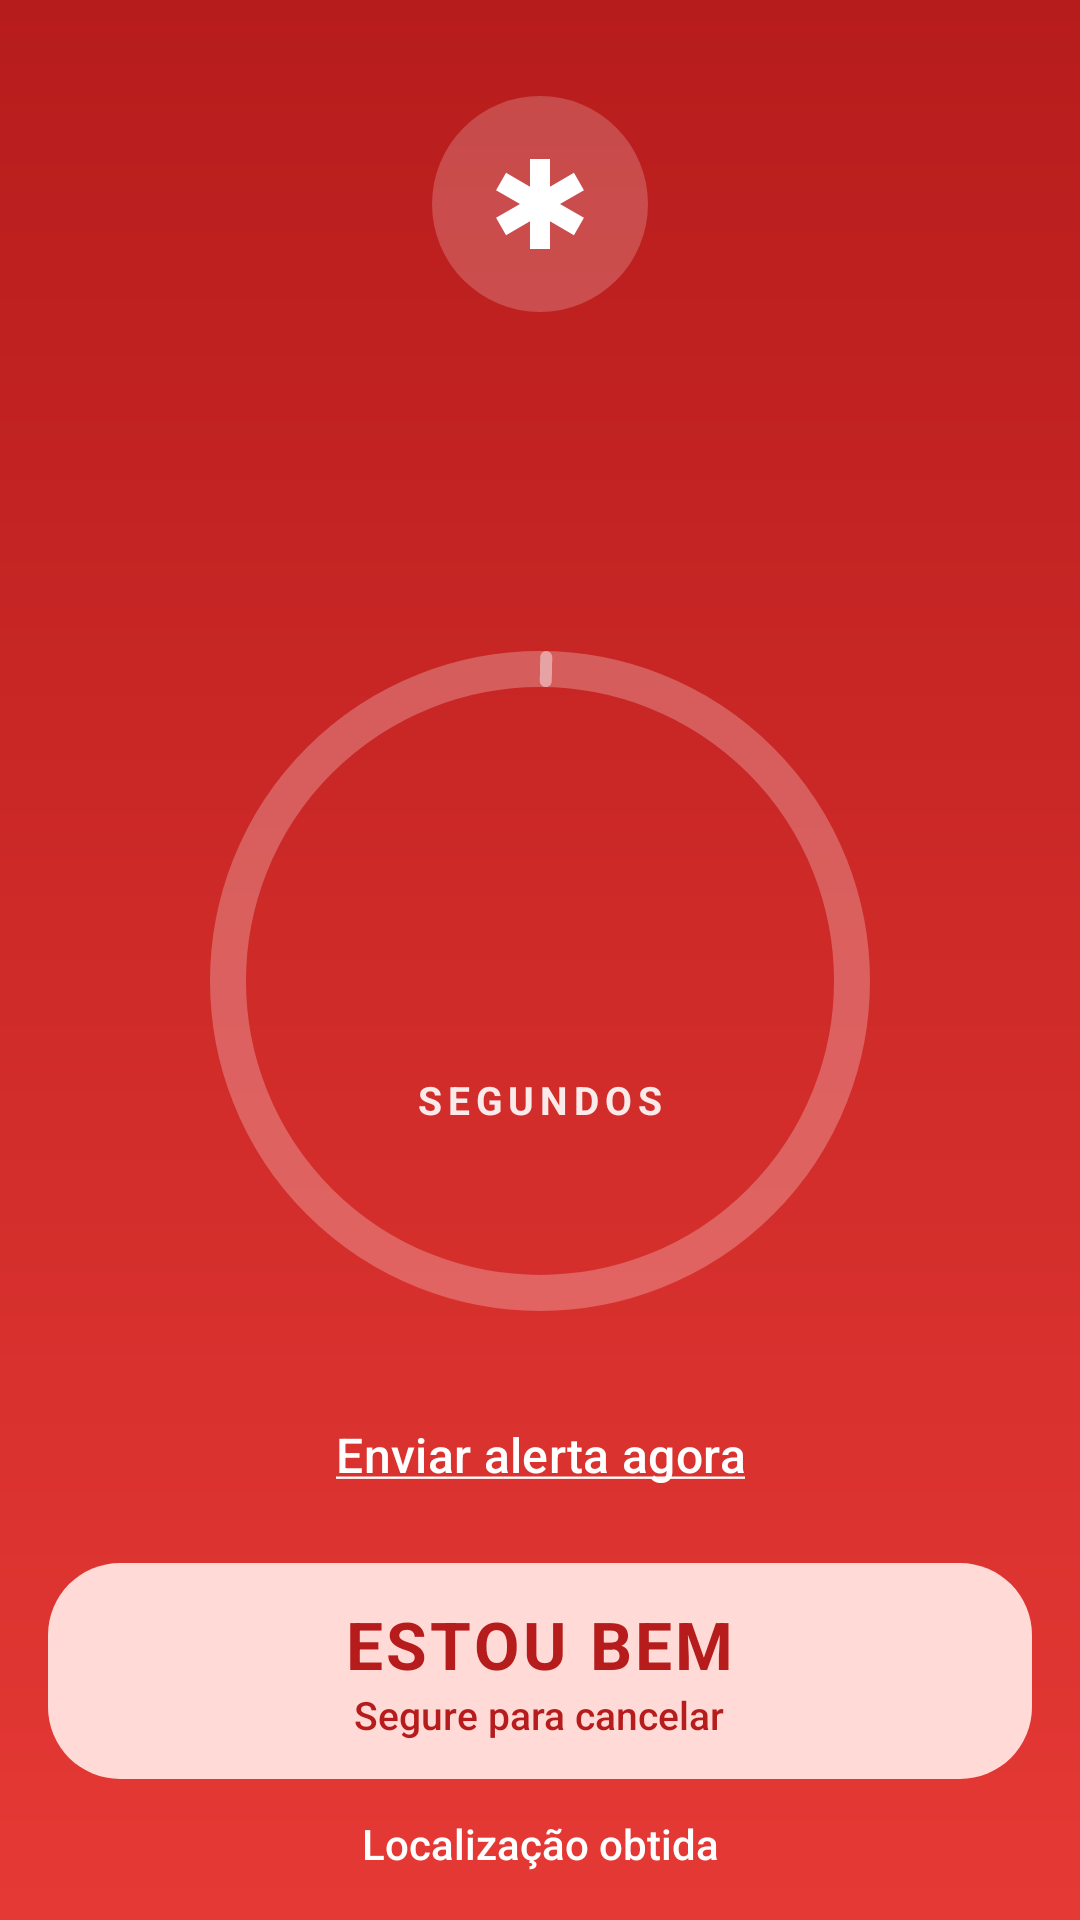

Icons on this 1080 × 1920 Android screen, each with its box as [x1=x1, y1=y1, x2=x2, y2=y2]:
emergencia: [x1=432, y1=96, x2=648, y2=312]
